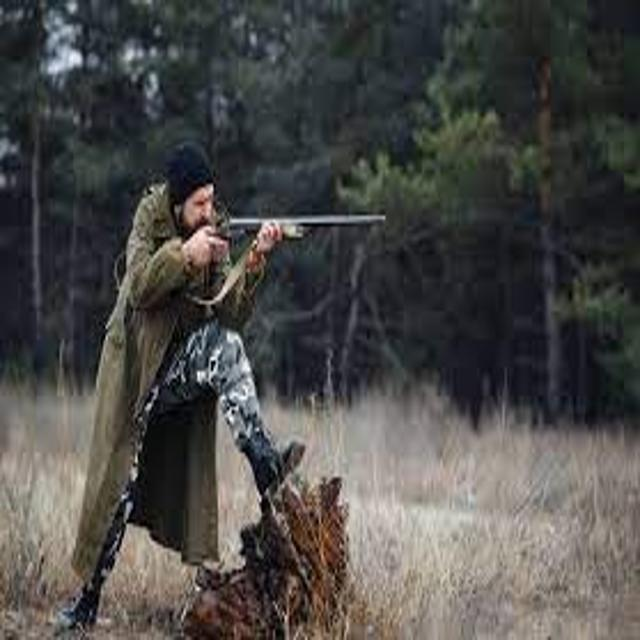gun: (167, 183, 415, 297)
poacher: (22, 139, 341, 637)
